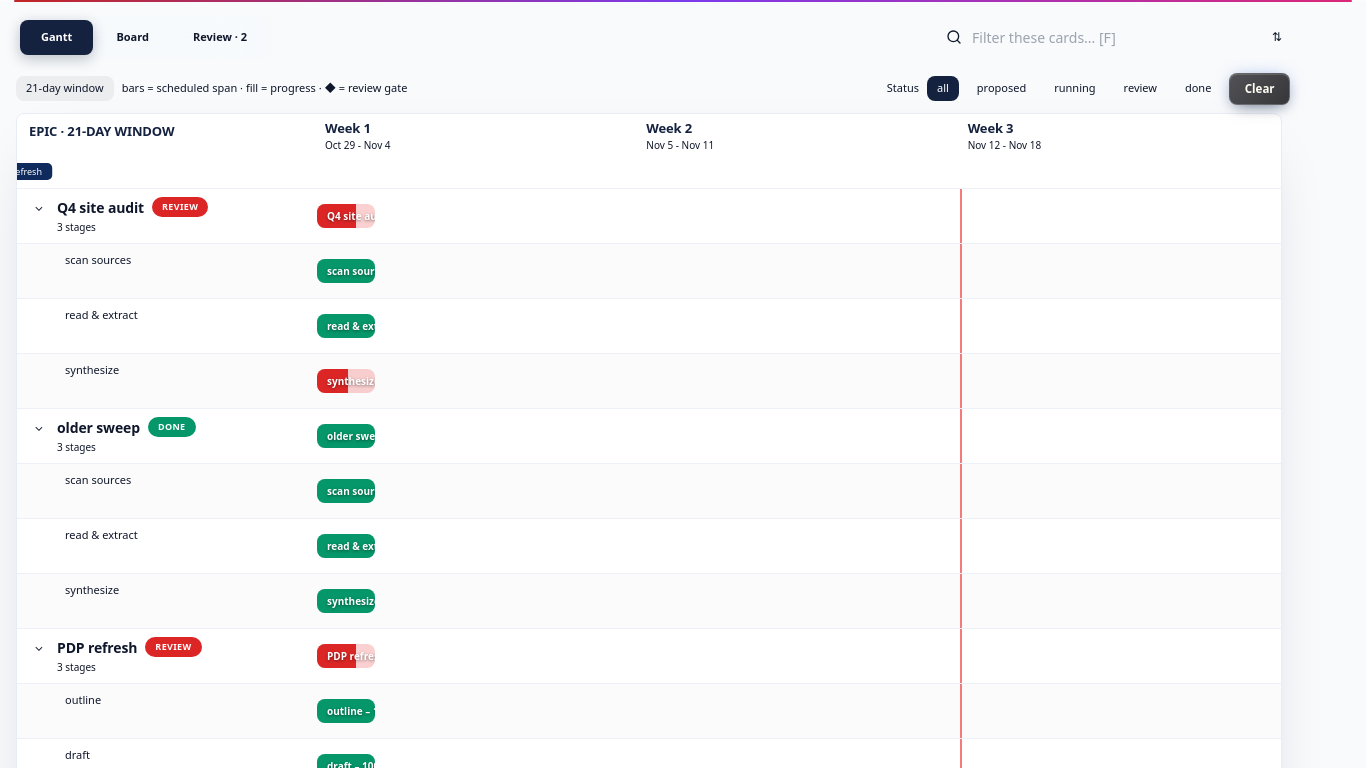
Test: AssignmentsWindow · v13 win-assignments (waterfall / board / review) › review tab: rows list what waits, approve happens in the slide-over
The width and height of the screenshot is (1366, 768).
Click the tab "Review · 2".
click(220, 37)  # box [172,20,268,54]
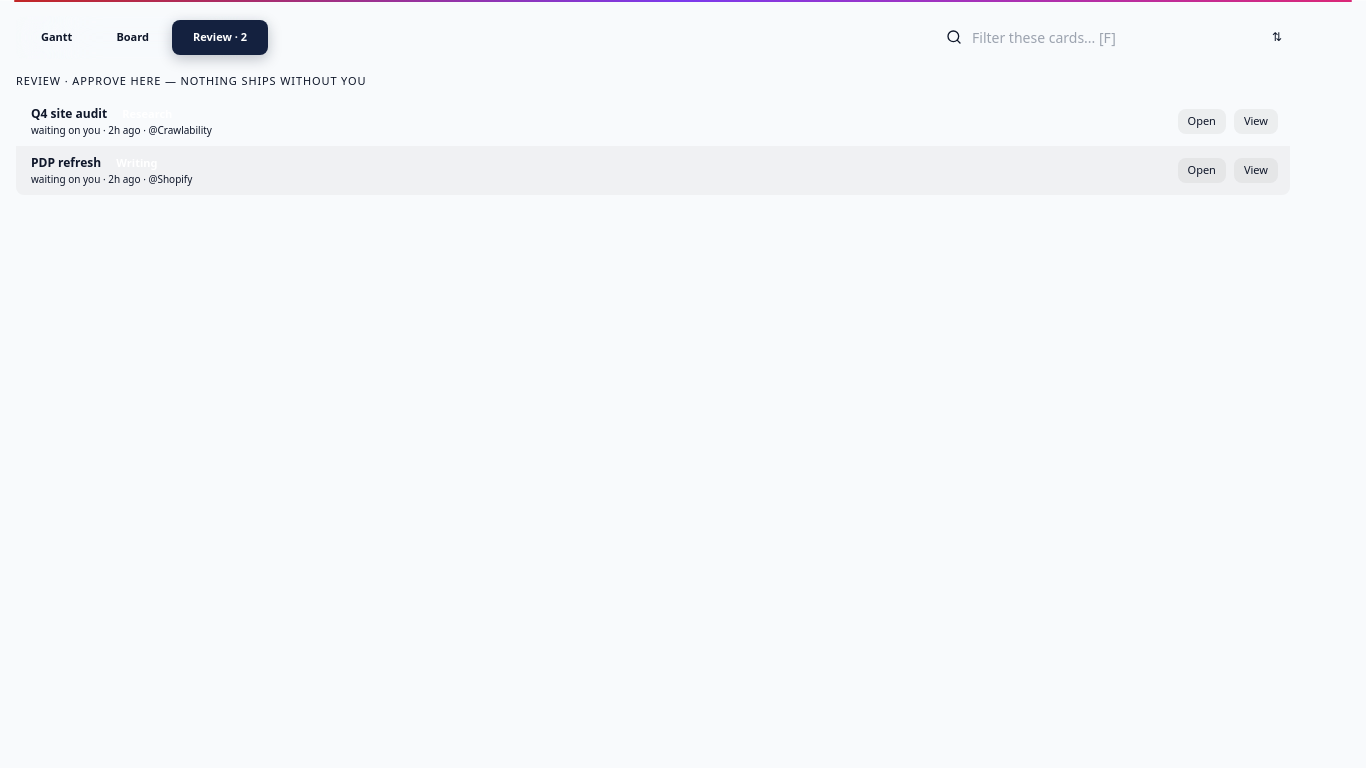
Result: the text "waiting on you · 2h ago · @Crawlability" is shown 2 times at [31,123,212,137]; [31,172,192,186]
Click the button "Open" in the row of "· @Crawlability".
click(1202, 122)  # box [1178,109,1226,134]
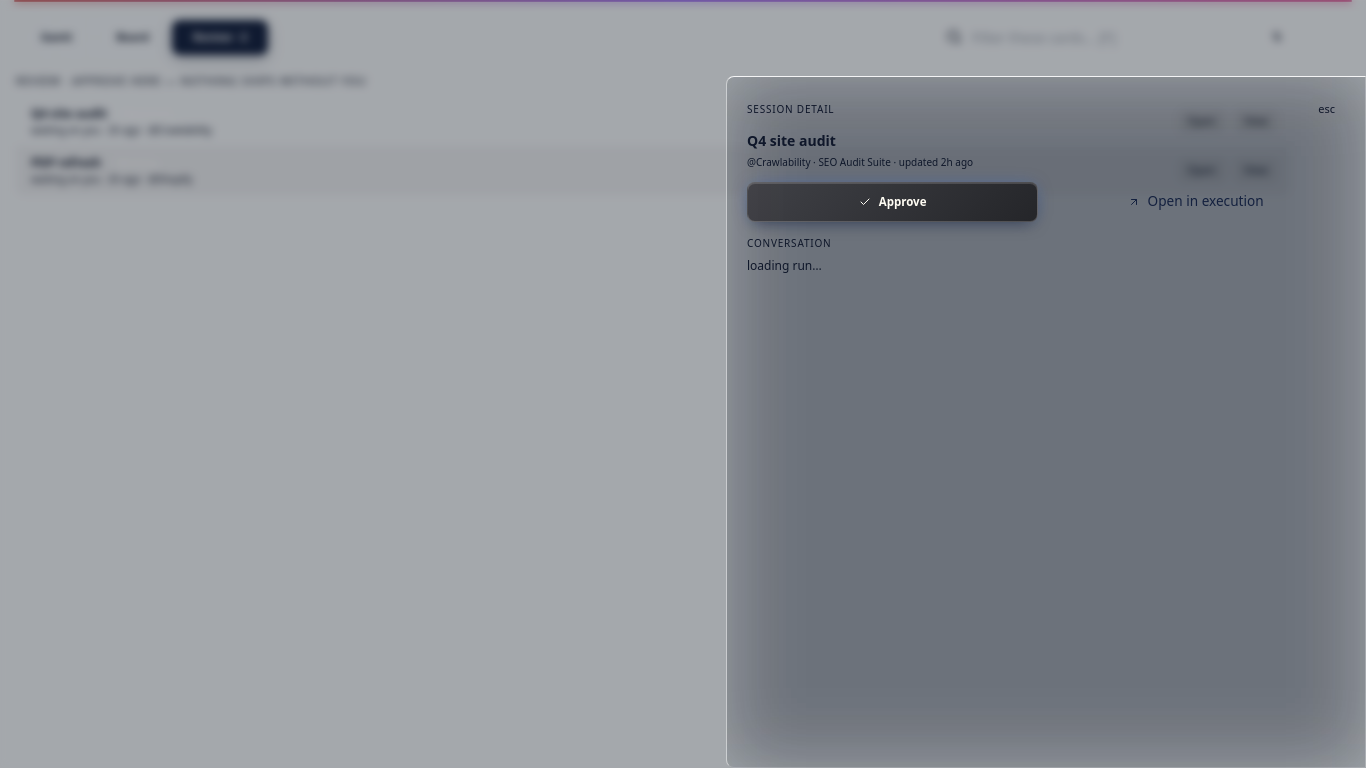
Result: the dialog named "Q4 site audit details" is shown
Click the button "Approve".
click(893, 202)  # box [747,182,1038,222]
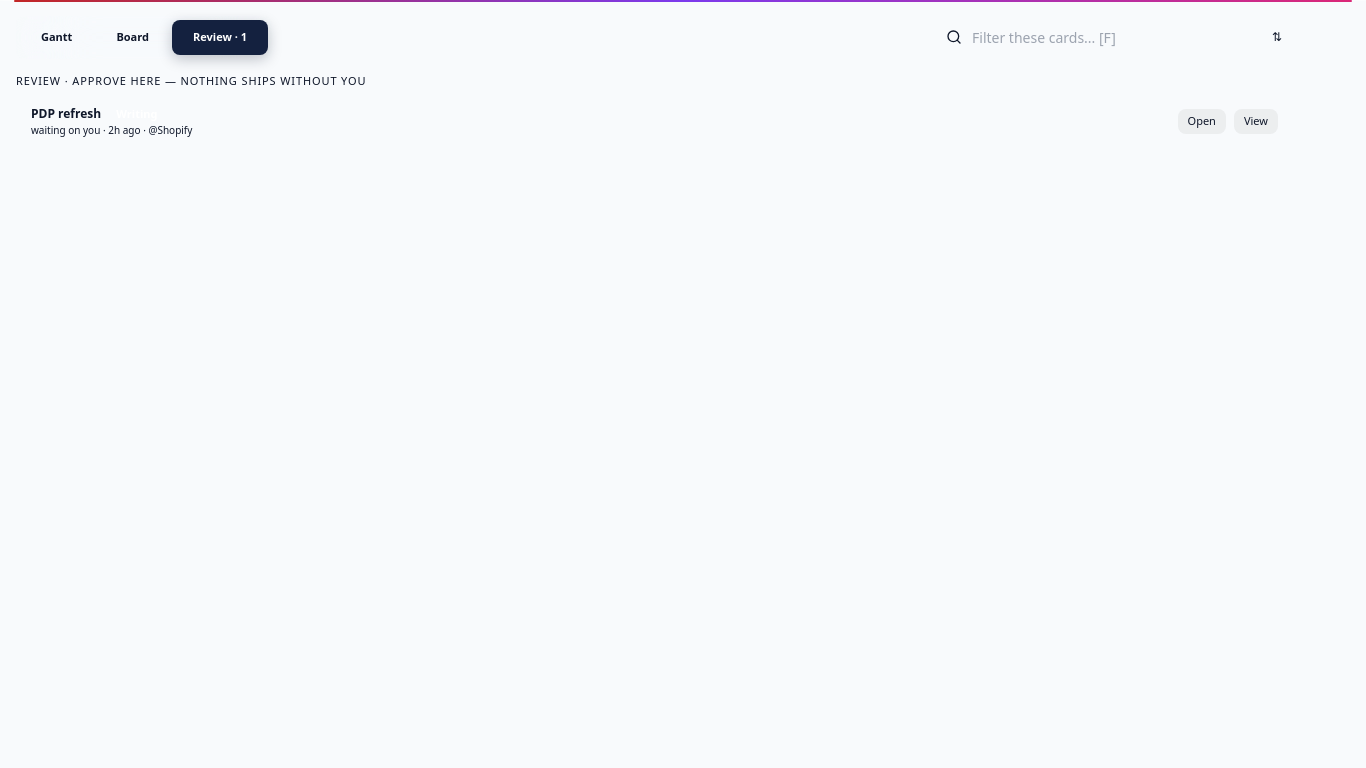
Result: the text "waiting on you · 2h ago · @Shopify" is shown once at [31,123,192,137]
